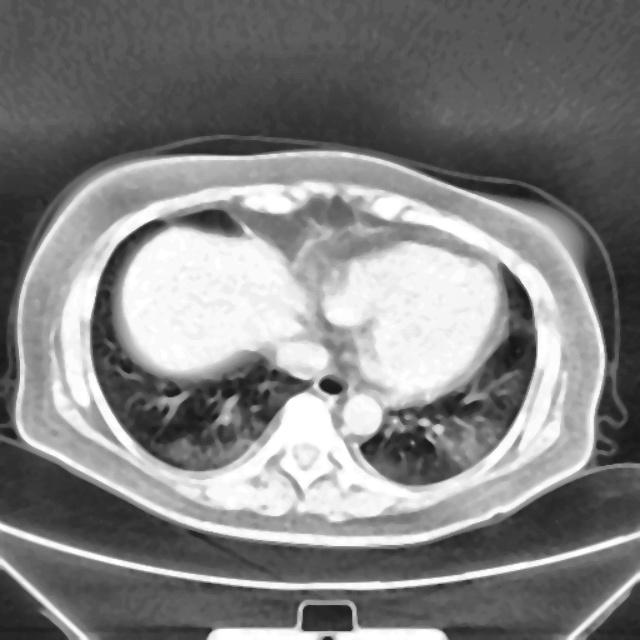covid: (12, 142, 612, 547)
